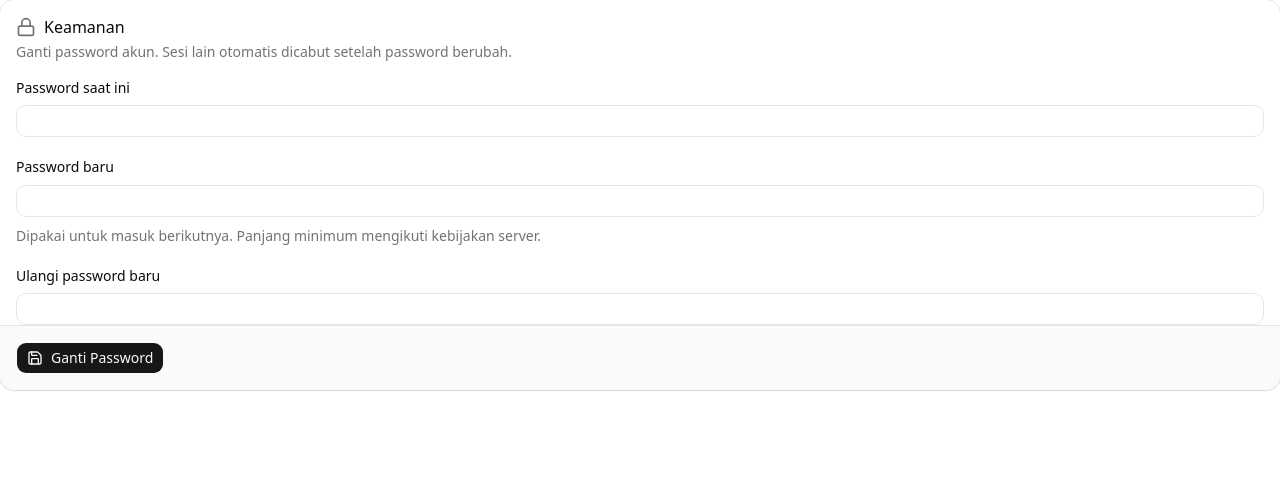
components/settings/security-section › error server ditampilkan apa adanya
Type "lama123" into the password field labelled "Password saat ini" at [640, 121], box [16,105,1264,137]
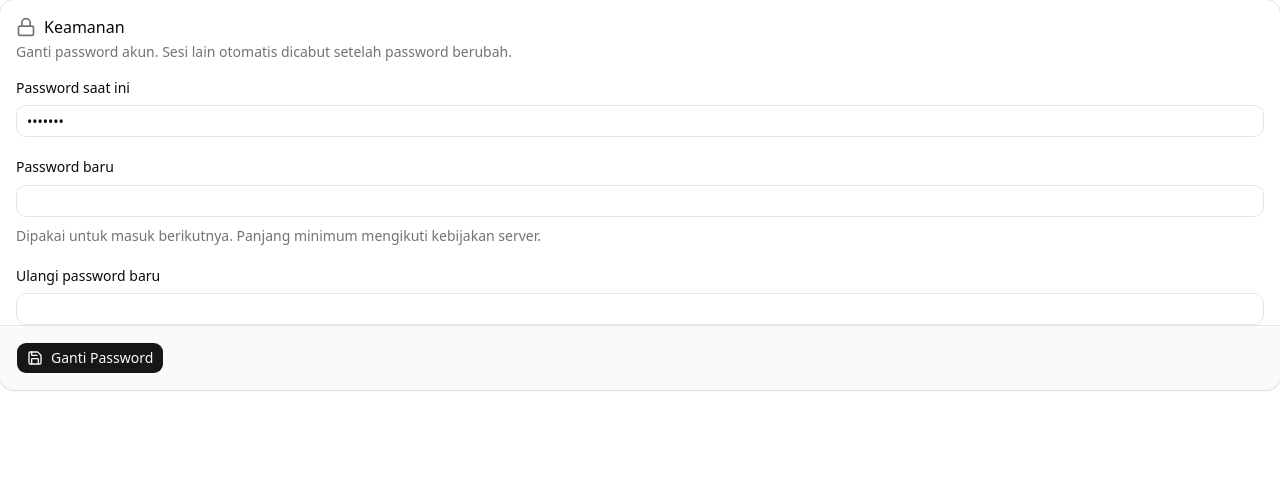
Type "pendek" into the password field labelled "Password baru" at [640, 200], box [16,184,1264,216]
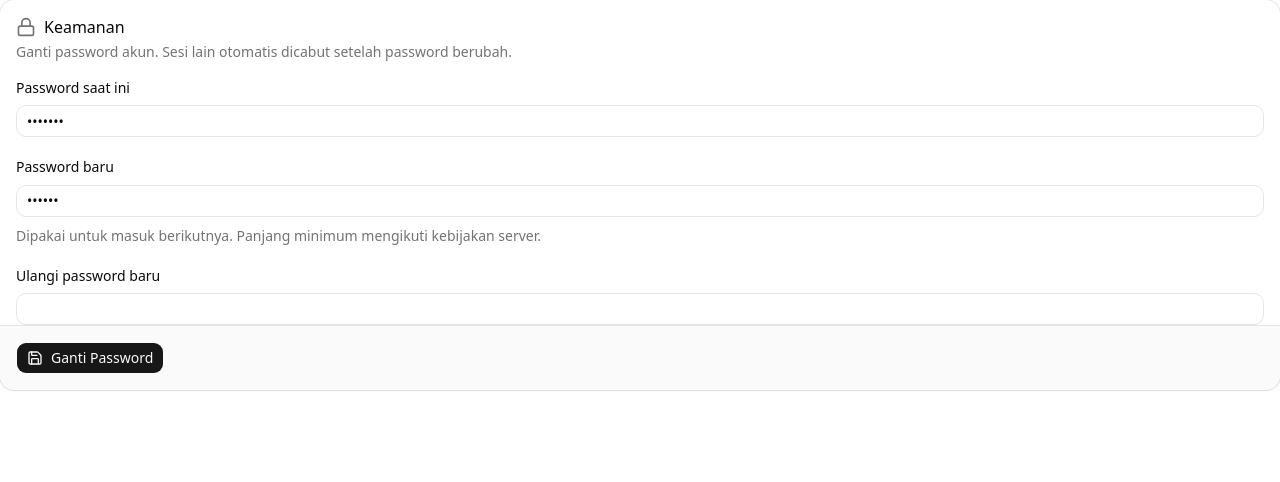
Type "pendek" into the password field labelled "Ulangi password baru" at [640, 309], box [16,293,1264,325]
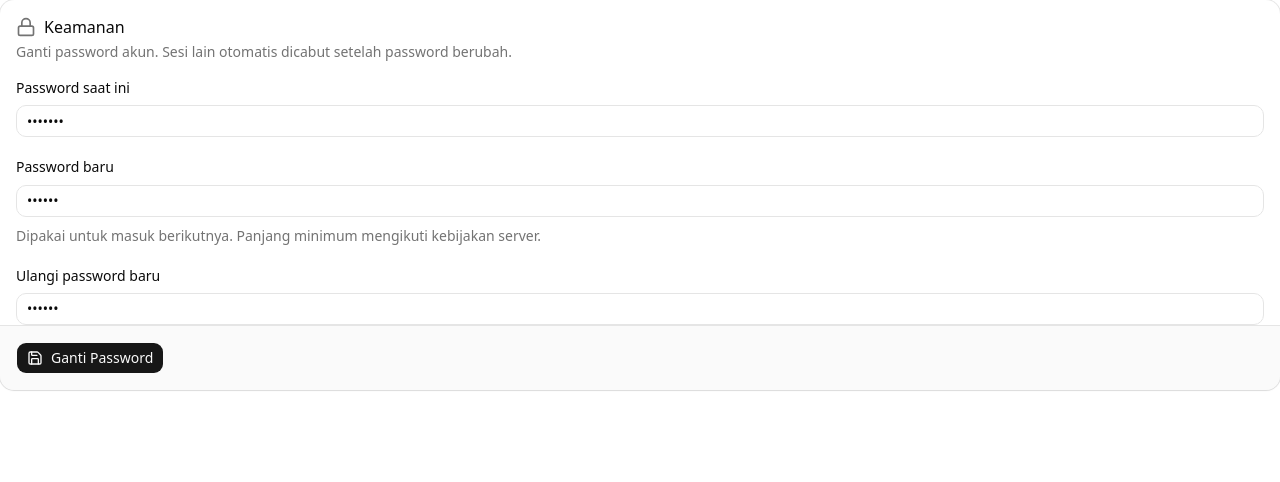
Click the button "Ganti Password" at [90, 358], box [16,342,164,374]
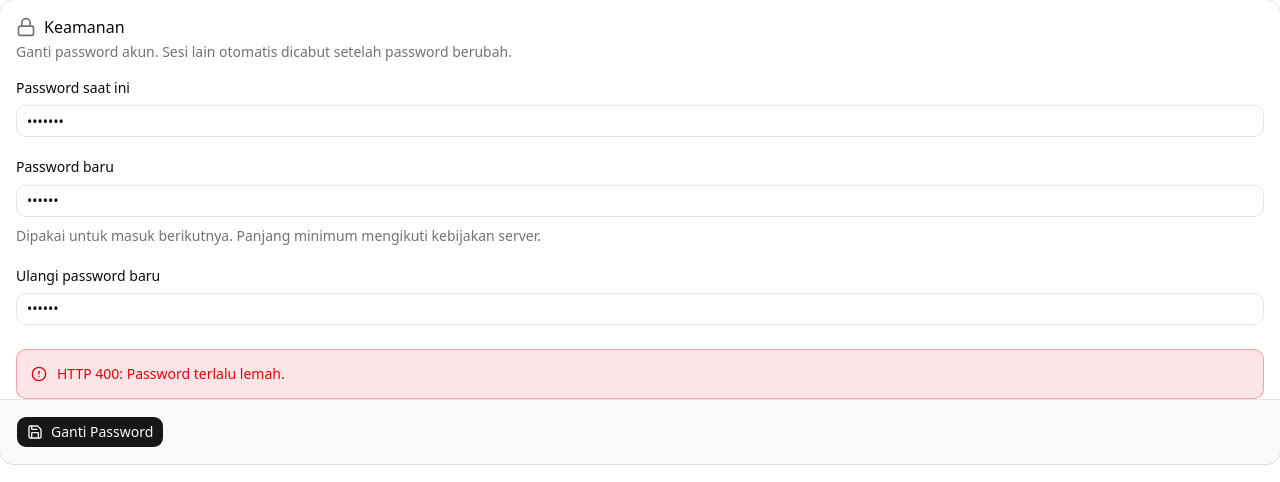
Expected: the message shows "Password terlalu lemah.", [57,364,285,383]
